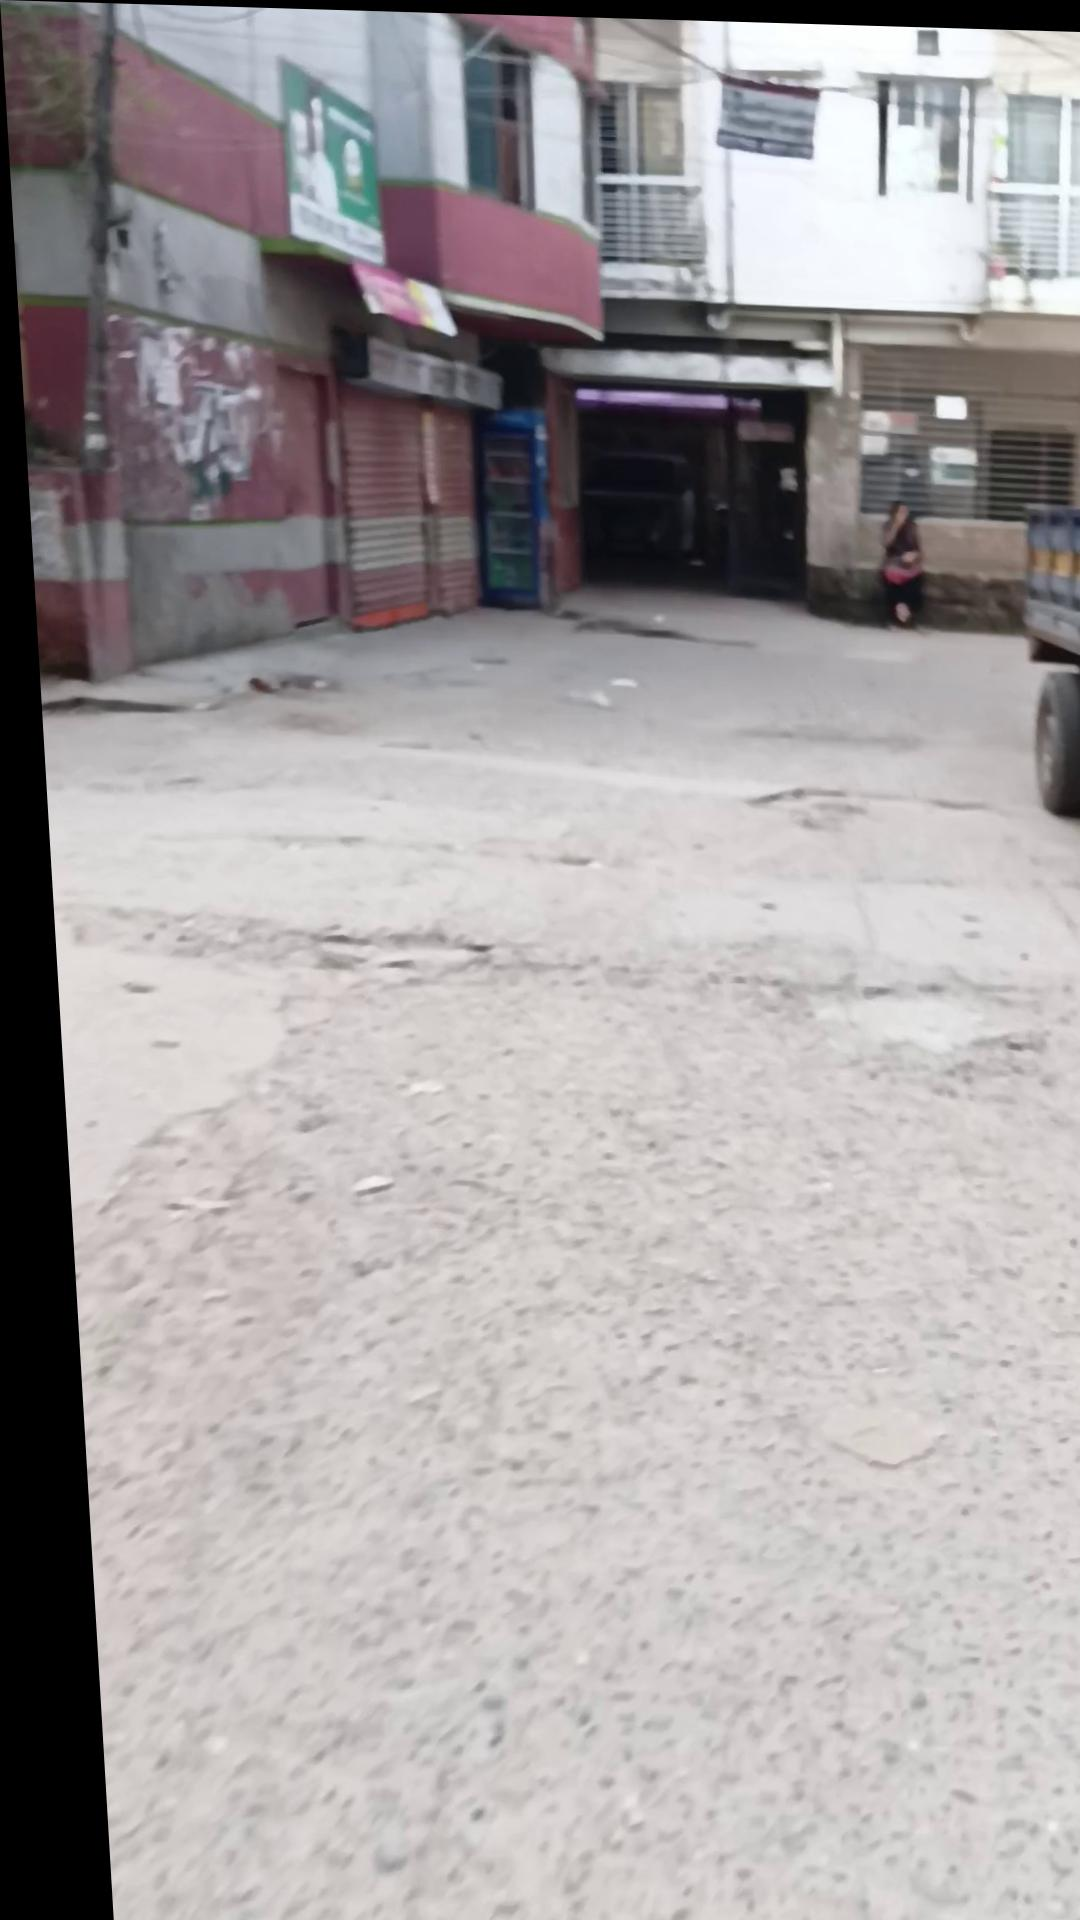Broken-road: (26, 566, 1080, 1920)
Muddy road: (868, 493, 920, 625)
Traffic-sign: (1004, 493, 1080, 814)
